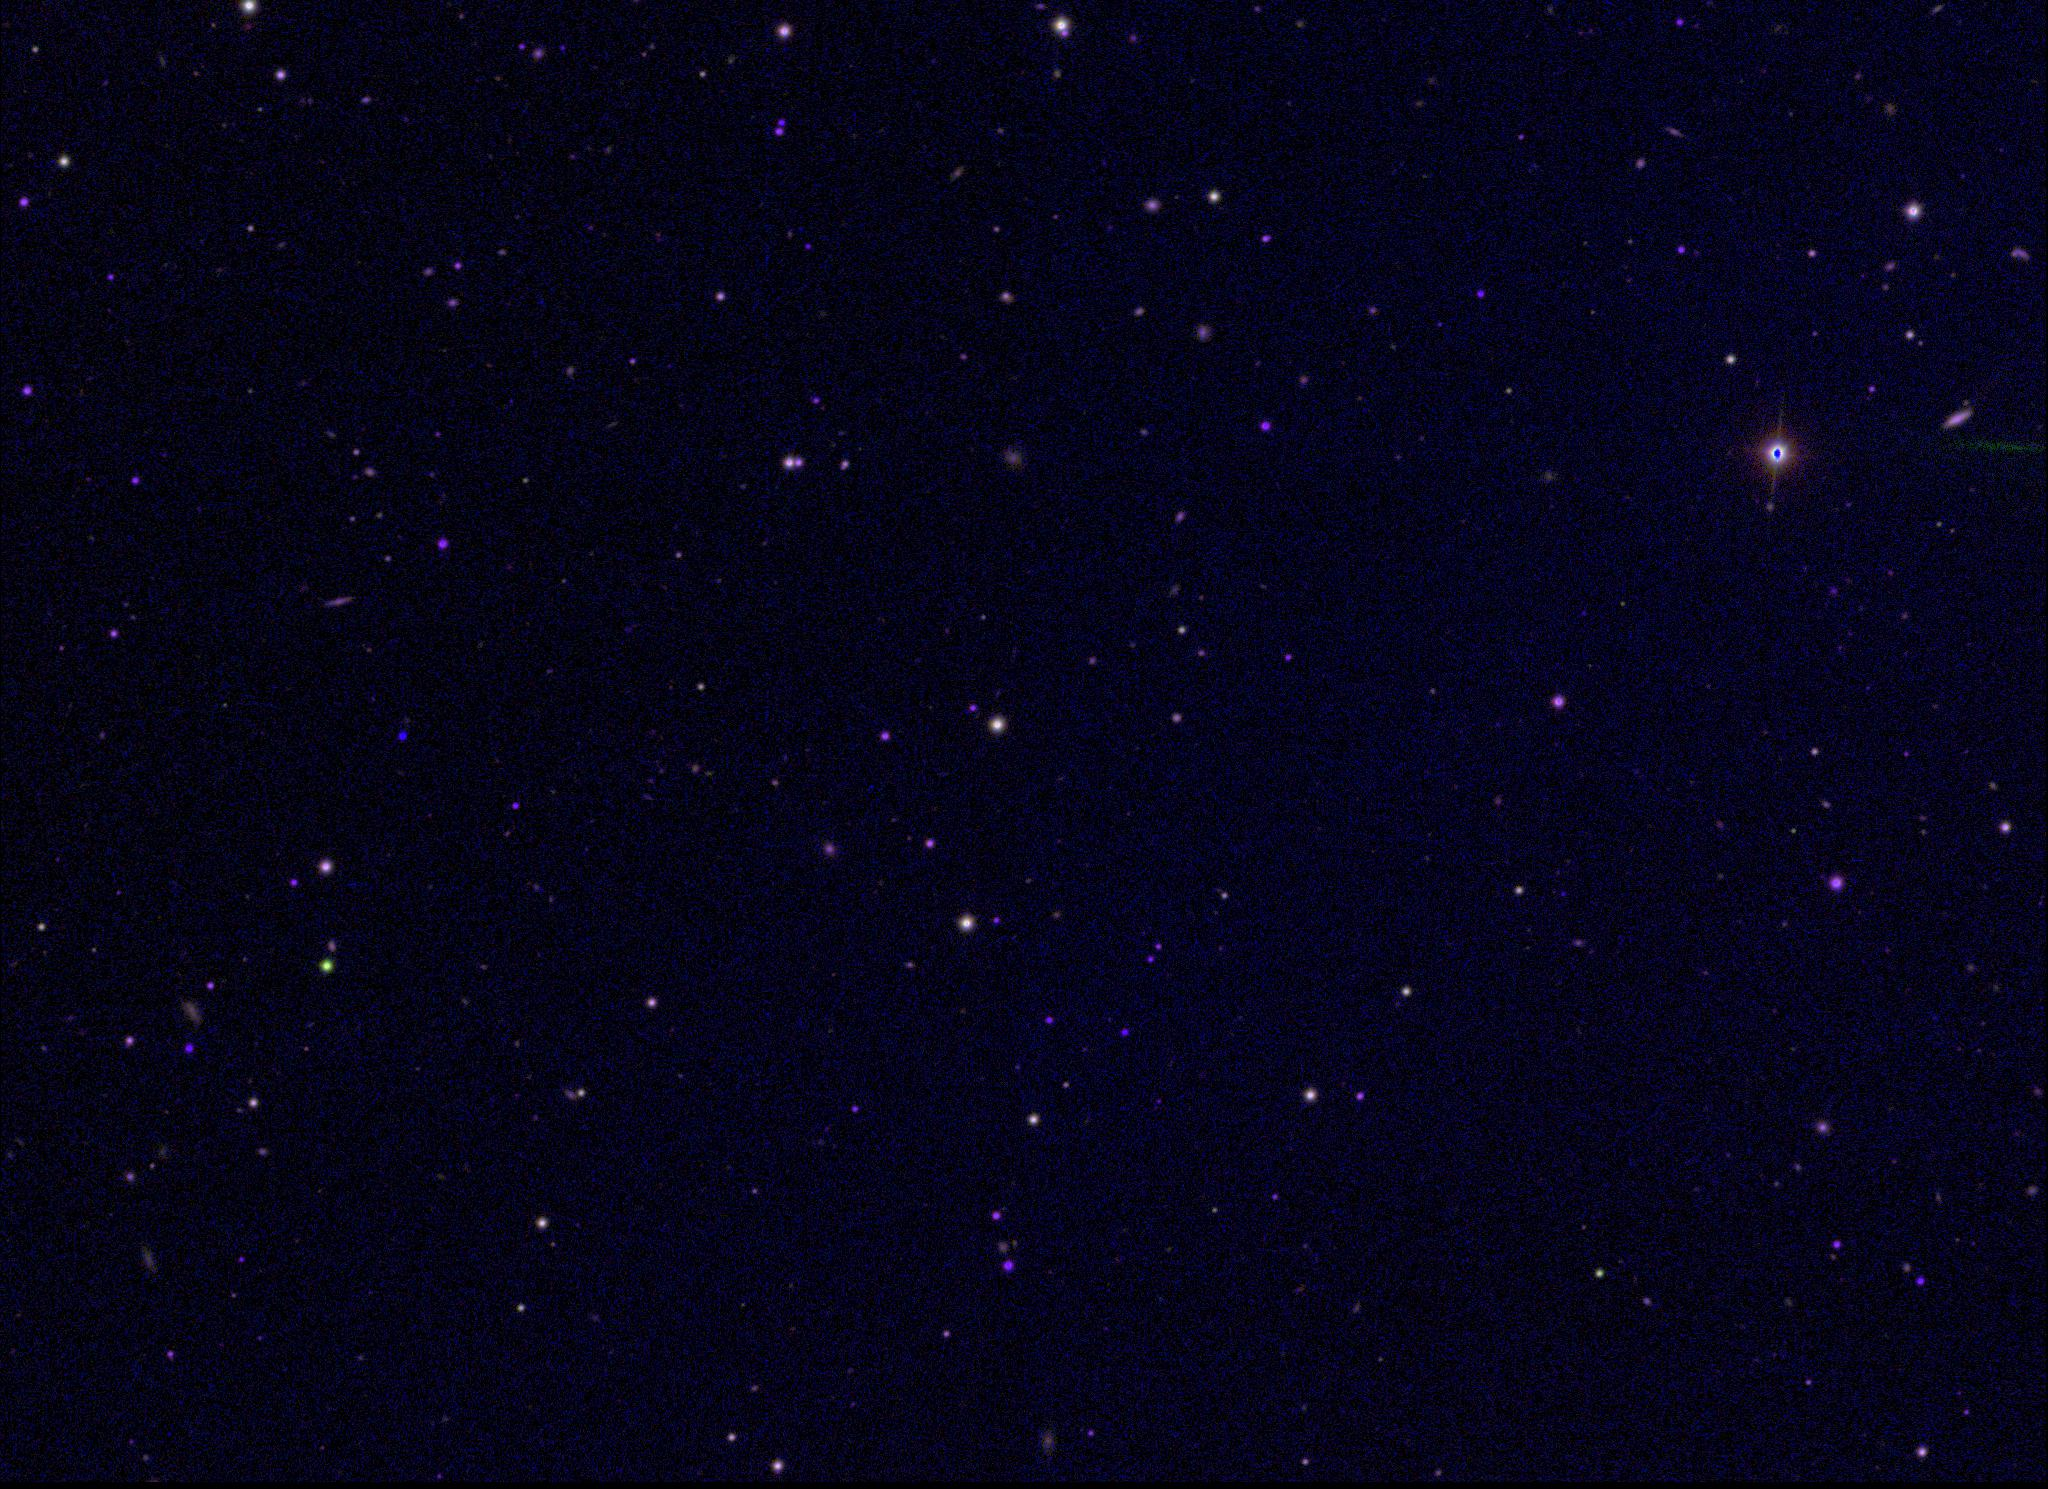L: (396, 730, 410, 744)
